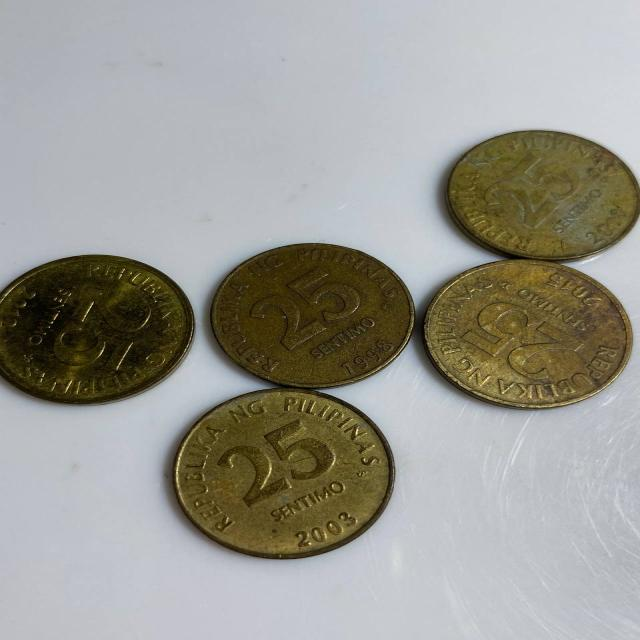25Cent_Old_Front: (213, 418, 340, 505), (464, 301, 580, 383), (252, 267, 361, 348), (51, 291, 149, 378), (482, 154, 582, 227)
